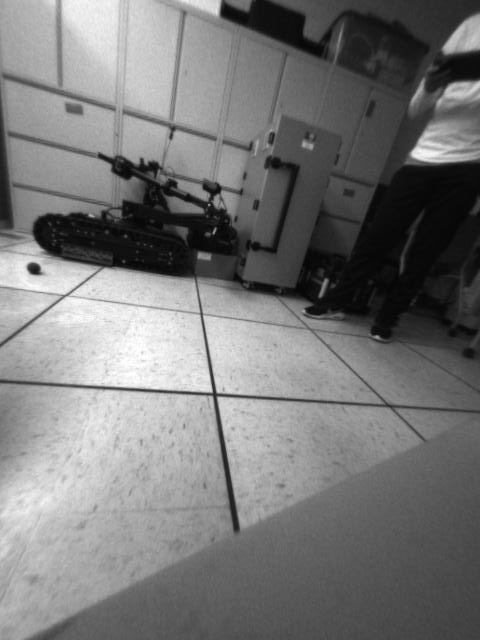dogtoy: (21, 258, 48, 279)
